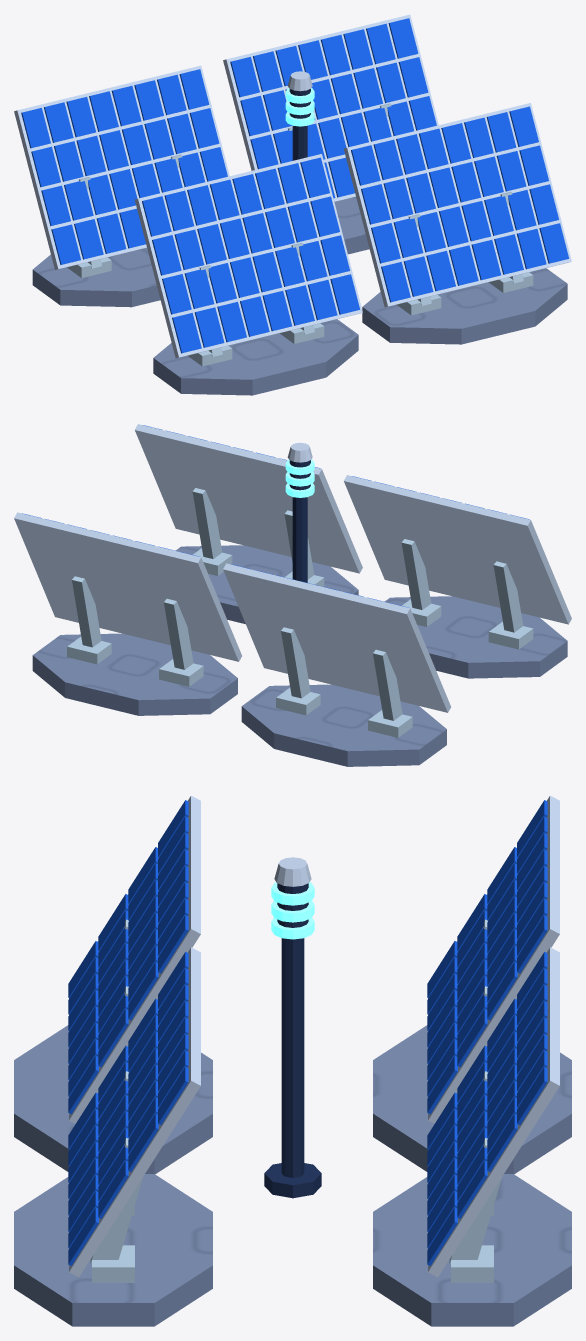
File: Ferme_Solaire.glb
3 renders of one model, top to bottom at view 1: azimuth 30°, elevation 25°; view 2: azimuth 150°, elevation 25°; view 3: azimuth 270°, elevation 25°, orthographic. The views are drawn at different scales.
Visible parts, largest first — view 1: Ferme_Solaire; view 2: Ferme_Solaire; view 3: Ferme_Solaire.
Boxes of the visible parts, box(x1,y1,x2,y2) form: Ferme_Solaire: box(14, 14, 571, 395); Ferme_Solaire: box(14, 424, 571, 766); Ferme_Solaire: box(14, 795, 571, 1326).
Bounding box in the file's own units: 4.7 × 2.48 × 3.89.
6 materials, 1 textured.
